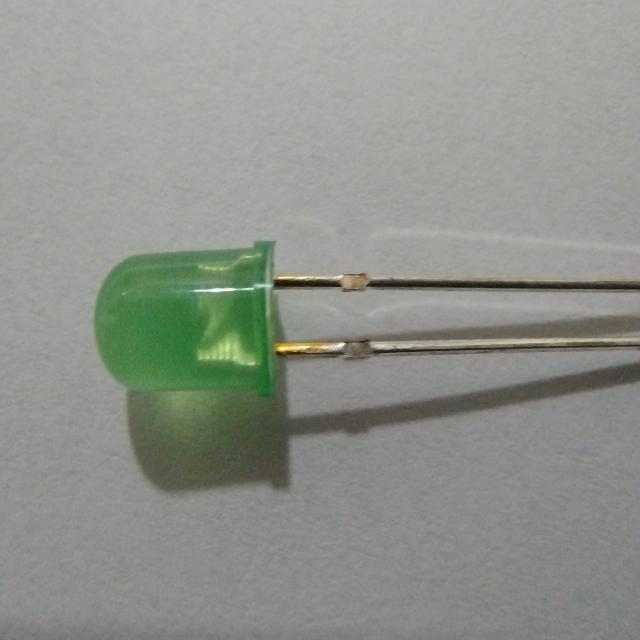green_led: (82, 226, 288, 407)
